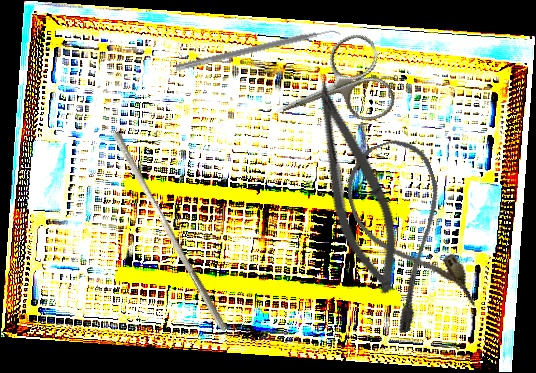Cannula: (334, 131, 480, 336)
Iris Scissors: (260, 28, 400, 153)
Micro Scissor: (289, 74, 419, 302)
Pusher: (104, 130, 236, 333)
Spatula Surgical: (174, 23, 344, 79)
